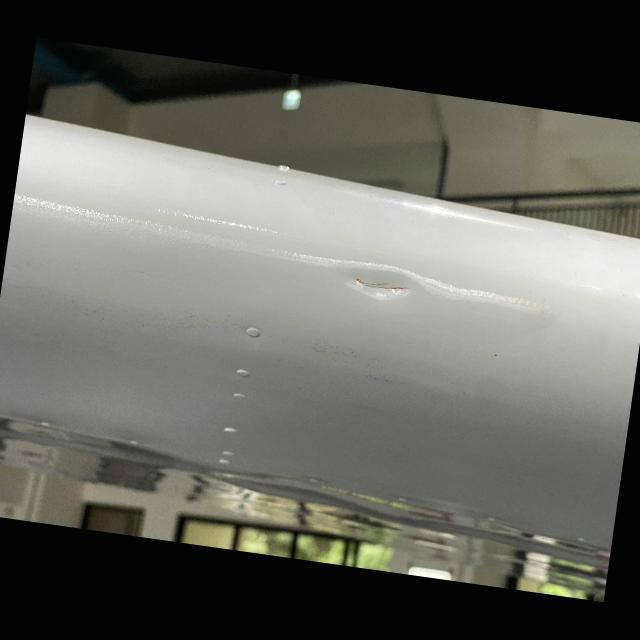dent: (321, 255, 446, 312)
